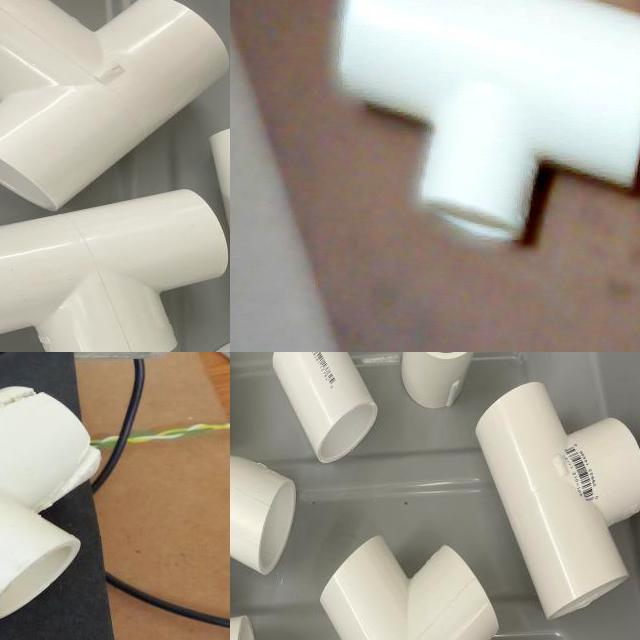Defective: (36, 436, 124, 512), (0, 395, 66, 431)
L Joint: (230, 458, 298, 577)
T Joint: (329, 0, 640, 246), (474, 382, 640, 622), (0, 190, 229, 352), (0, 386, 102, 620), (318, 536, 500, 640)
